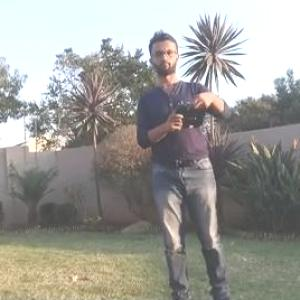follow: (131, 22, 242, 299)
